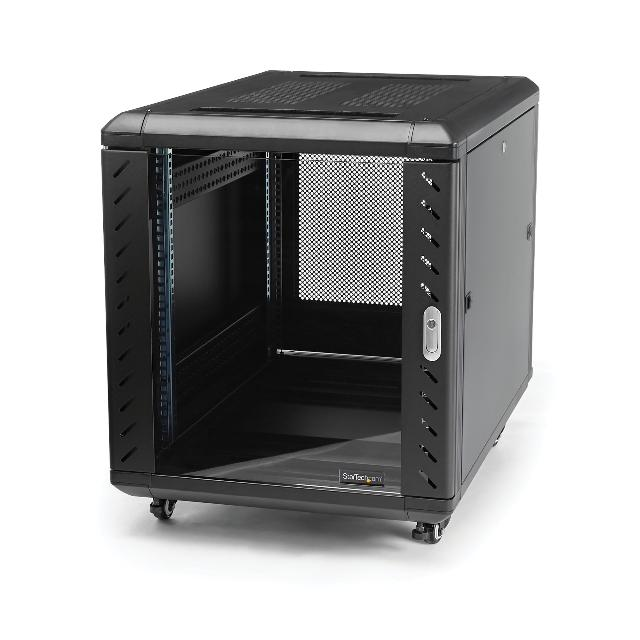Server: (98, 49, 576, 571)
